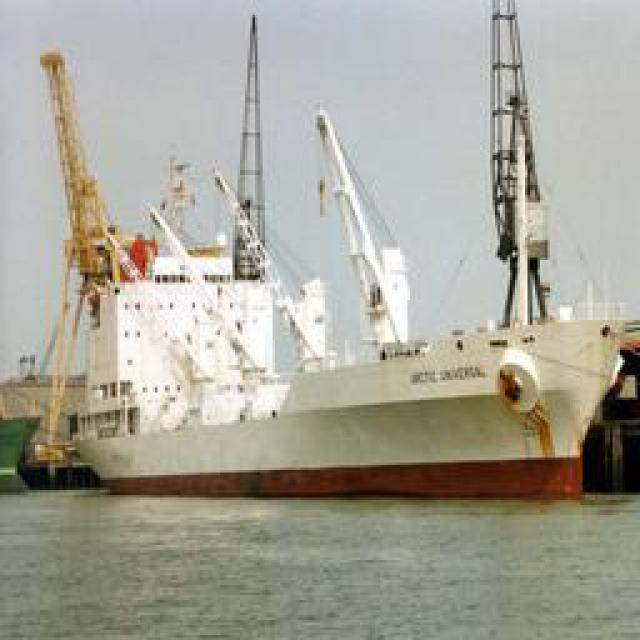Ship: (29, 1, 634, 501)
